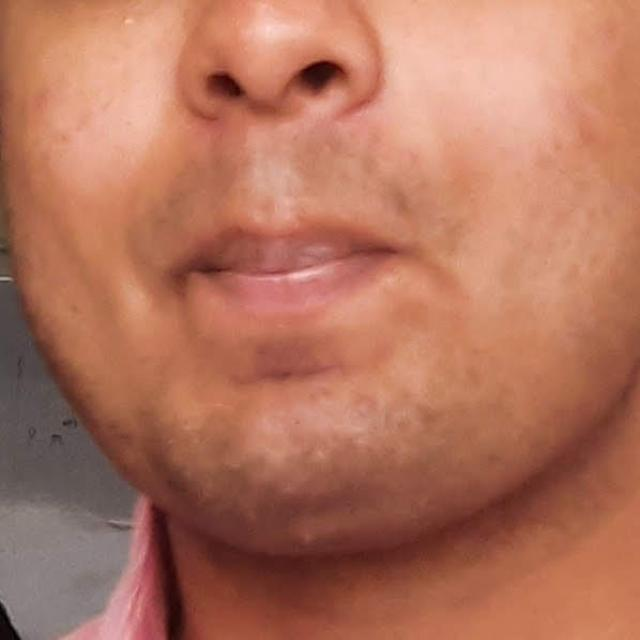normal_tongue: (158, 192, 436, 380)
